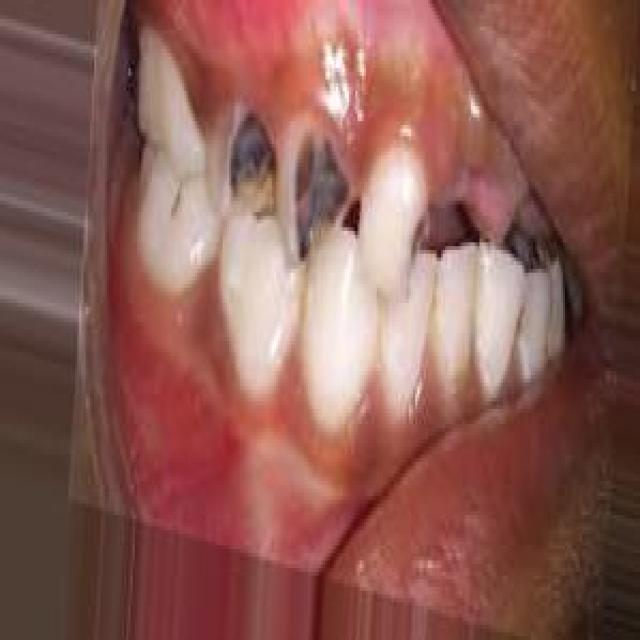caries: (278, 111, 358, 259), (206, 92, 284, 235), (395, 190, 442, 311)
